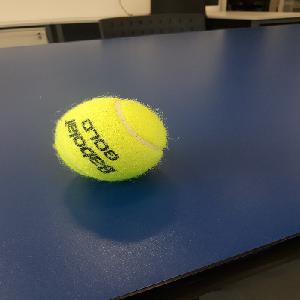Ball: (53, 95, 168, 182)
